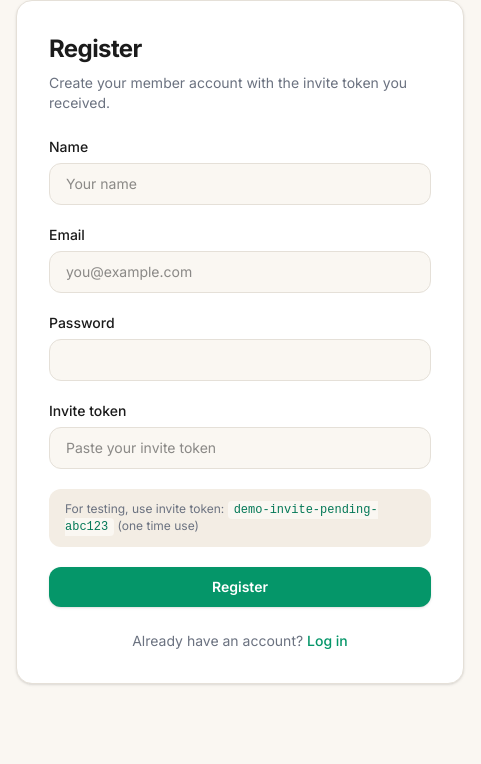
shows the specific field message when a 422 returns a list of field errors
The image size is (481, 764).
Type "New Person" into the field labelled "Name" at (240, 184), box [49, 163, 431, 205]
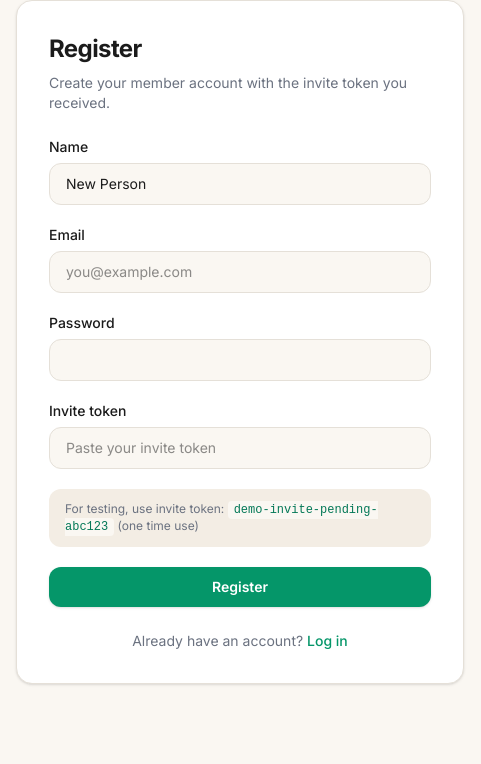
Type "new@example.com" into the field labelled "Email" at (240, 272), box [49, 251, 431, 293]
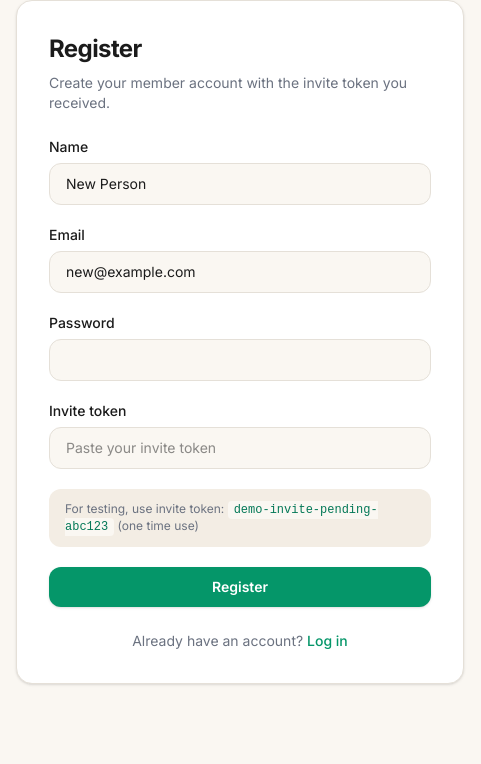
Type "short" into the password field labelled "Password" at (240, 360), box [49, 339, 431, 381]
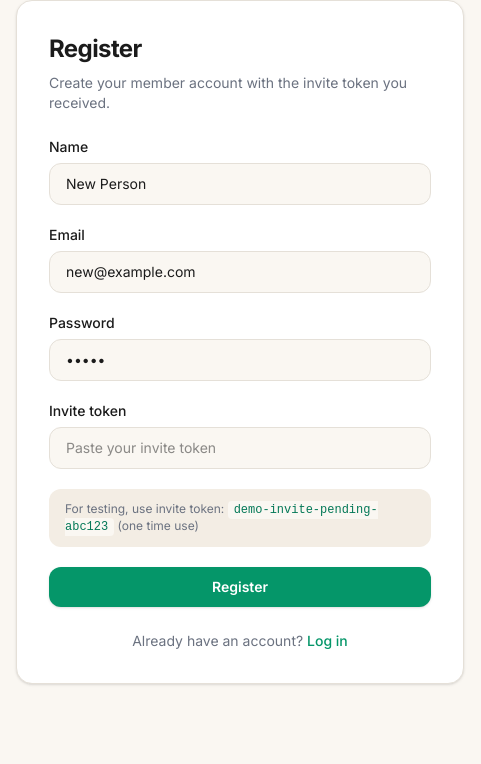
Type "tok-1" into the field labelled "Invite token" at (240, 448), box [49, 427, 431, 469]
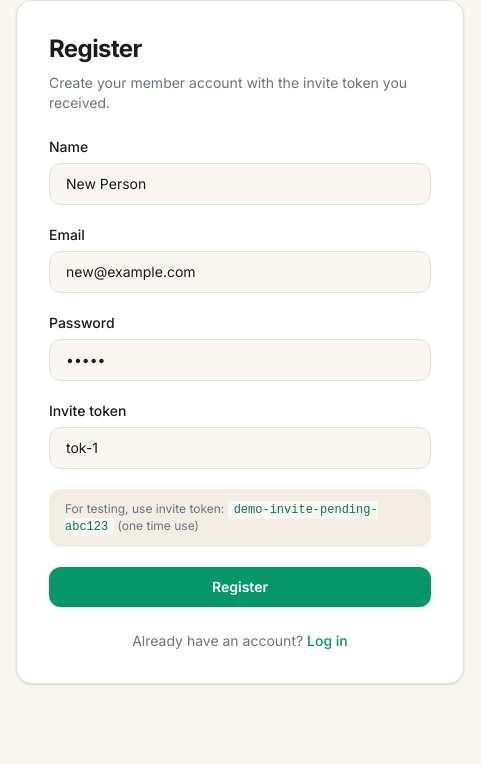
Click the button "Register" at (240, 587), box [49, 567, 431, 607]
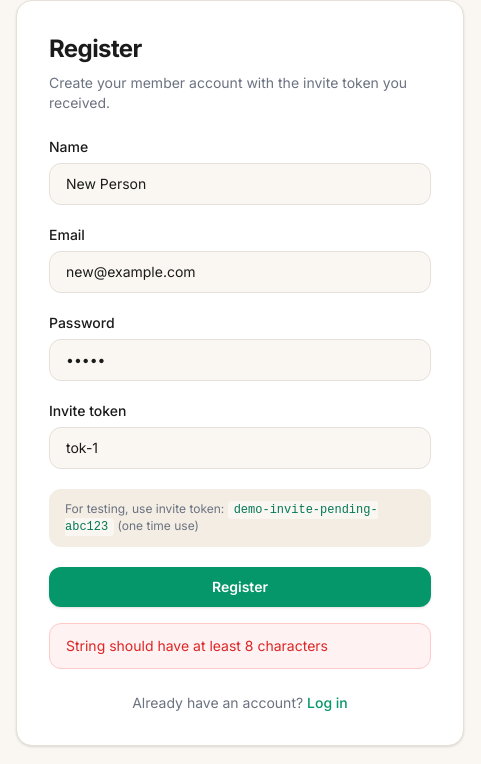
Expected: the message reads "String should have at least 8 characters", [66, 637, 328, 654]
